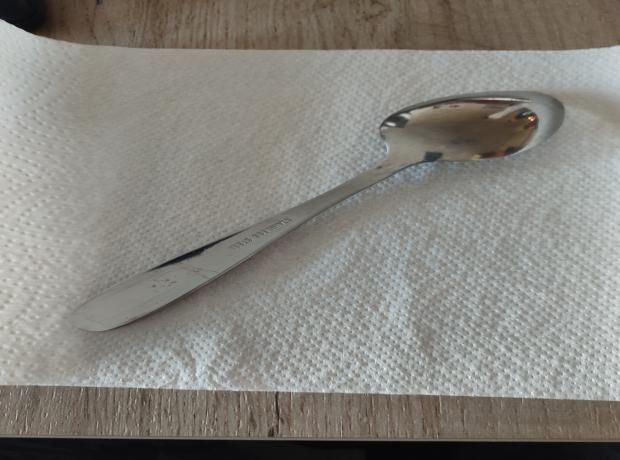metal: (62, 89, 570, 332)
